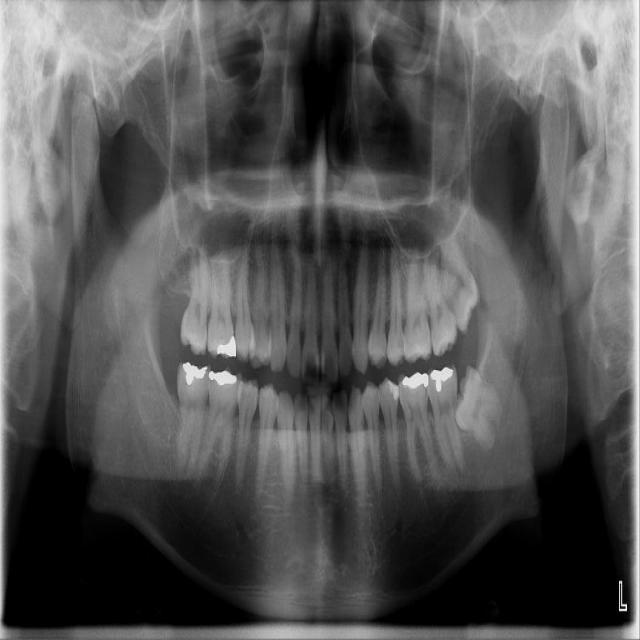Filling: (183, 363, 208, 386), (430, 367, 453, 391), (215, 336, 239, 356), (208, 370, 238, 384), (399, 374, 429, 388), (388, 380, 400, 400)
Periapical lesion: (459, 436, 492, 476)
impacted tooth: (455, 367, 502, 451), (439, 243, 479, 333)
